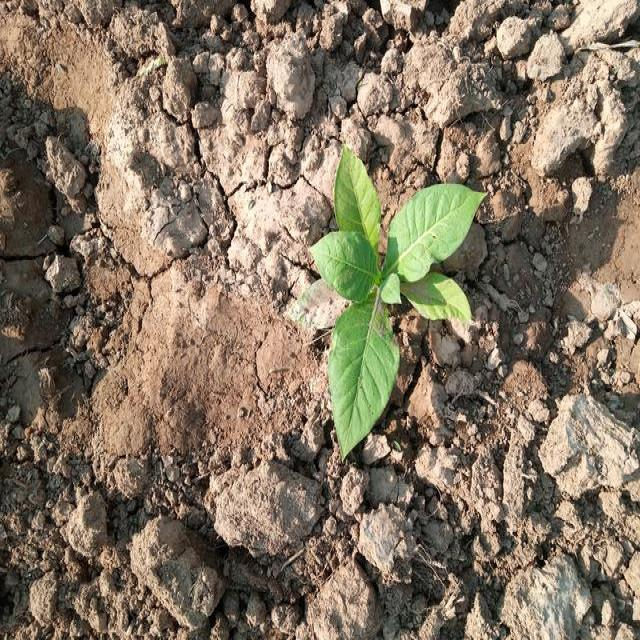crop: (308, 159, 480, 437)
